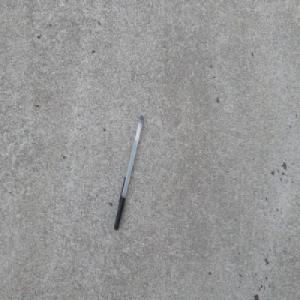Pen: (113, 114, 144, 230)
